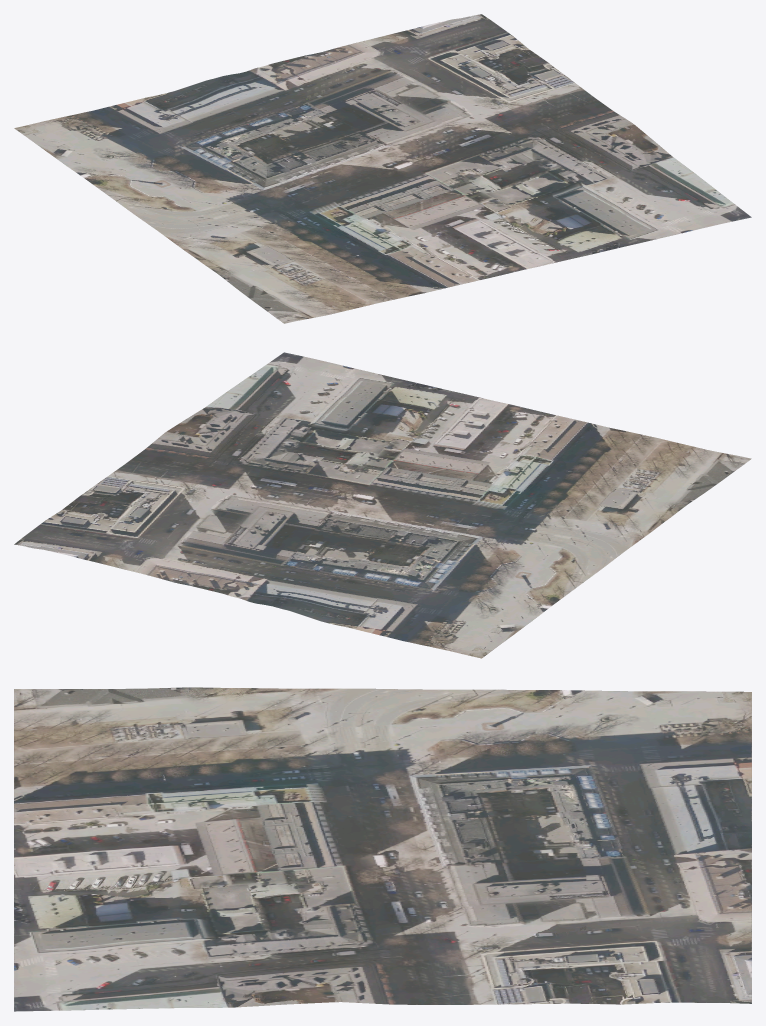
Rendered from CM_Terrain_24486773_6820818.fbx.
3 views of the same model, one above another, from view 1: azimuth 30°, elevation 25°; view 2: azimuth 150°, elevation 25°; view 3: azimuth 270°, elevation 25° (orthographic). The views are drawn at different scales.
Visible parts, largest first — view 1: CM_Terrain_24486773_6820818_LOD0; view 2: CM_Terrain_24486773_6820818_LOD0; view 3: CM_Terrain_24486773_6820818_LOD0.
Boxes of the visible parts, box(x1,y1,x2,y2) form: CM_Terrain_24486773_6820818_LOD0: box(14, 14, 751, 323); CM_Terrain_24486773_6820818_LOD0: box(14, 352, 751, 658); CM_Terrain_24486773_6820818_LOD0: box(14, 687, 751, 1011).
Size of what is drawn, in the model's own units: 205 by 5.21 by 205.
